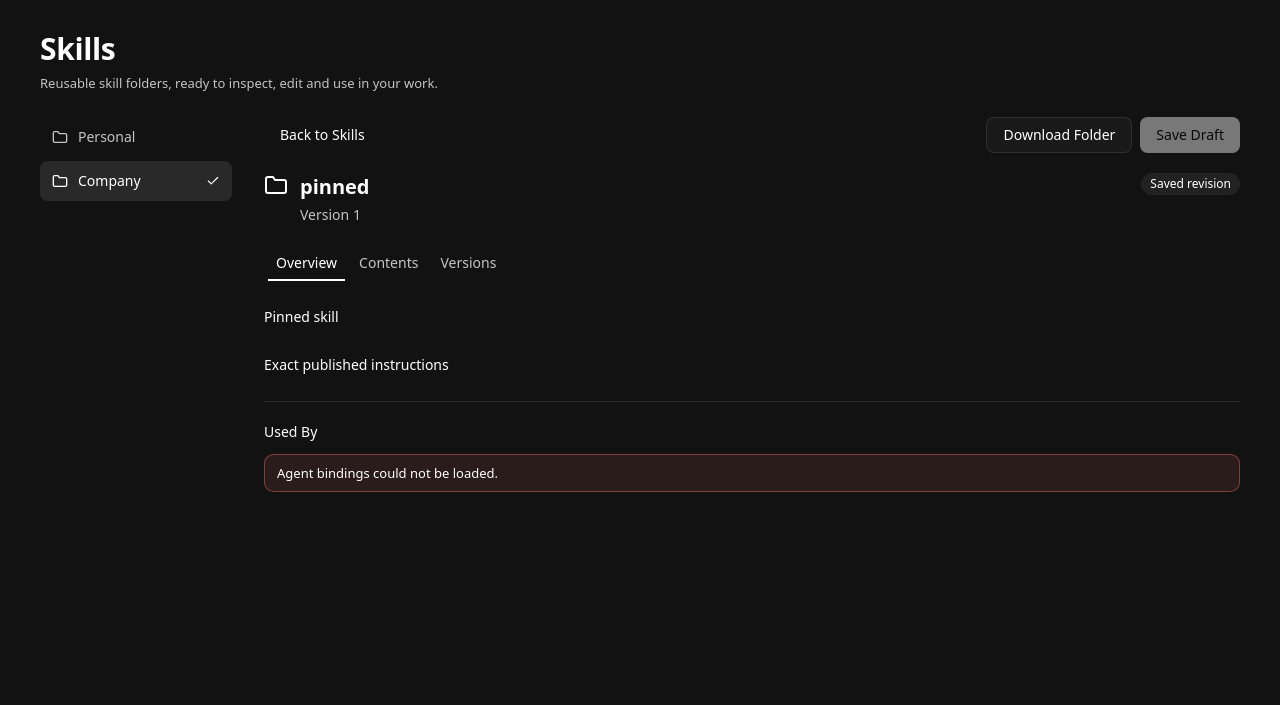
Scenario: skill deep link opens the pinned published version and manual selection keeps its address
expect the text "Exact published instructions" is shown: met, box top-left (264, 354), bottom-right (449, 374)
Press the mouse on the tab "Versions" at (468, 262), box top-left (431, 248), bottom-right (505, 277)
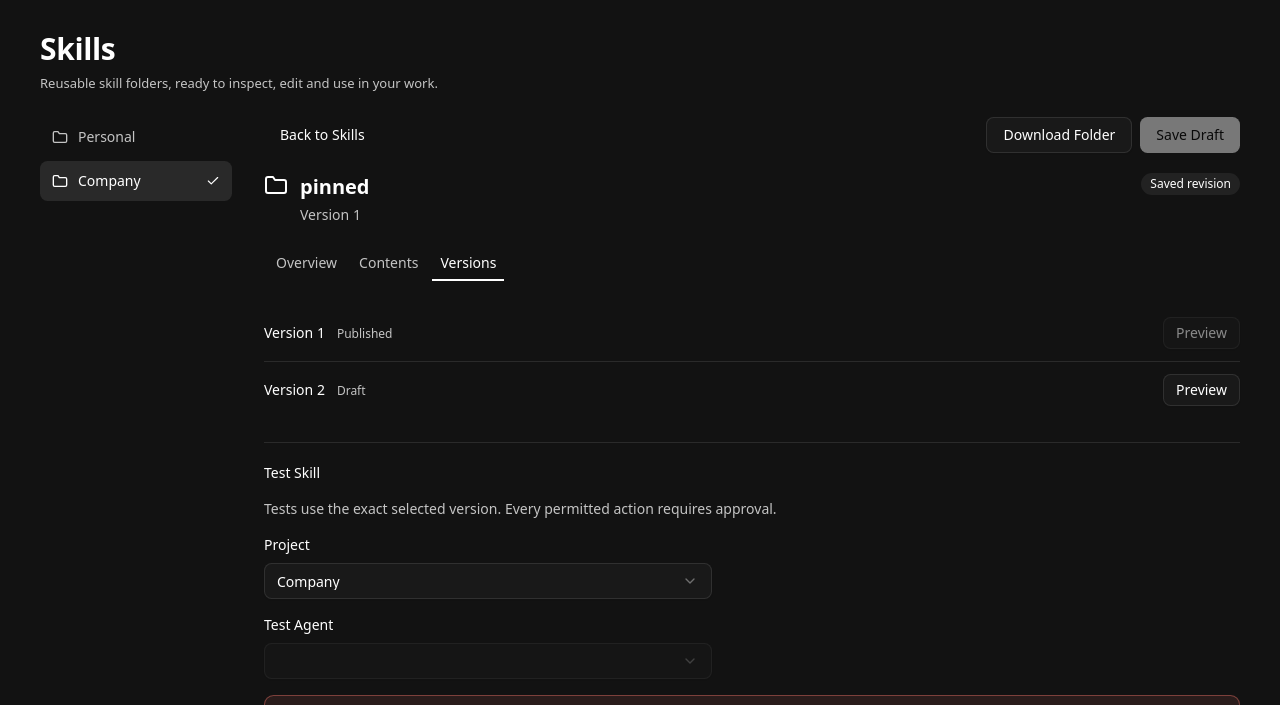
Click the 2nd button "Preview" at (1202, 390), box top-left (1163, 374), bottom-right (1240, 406)
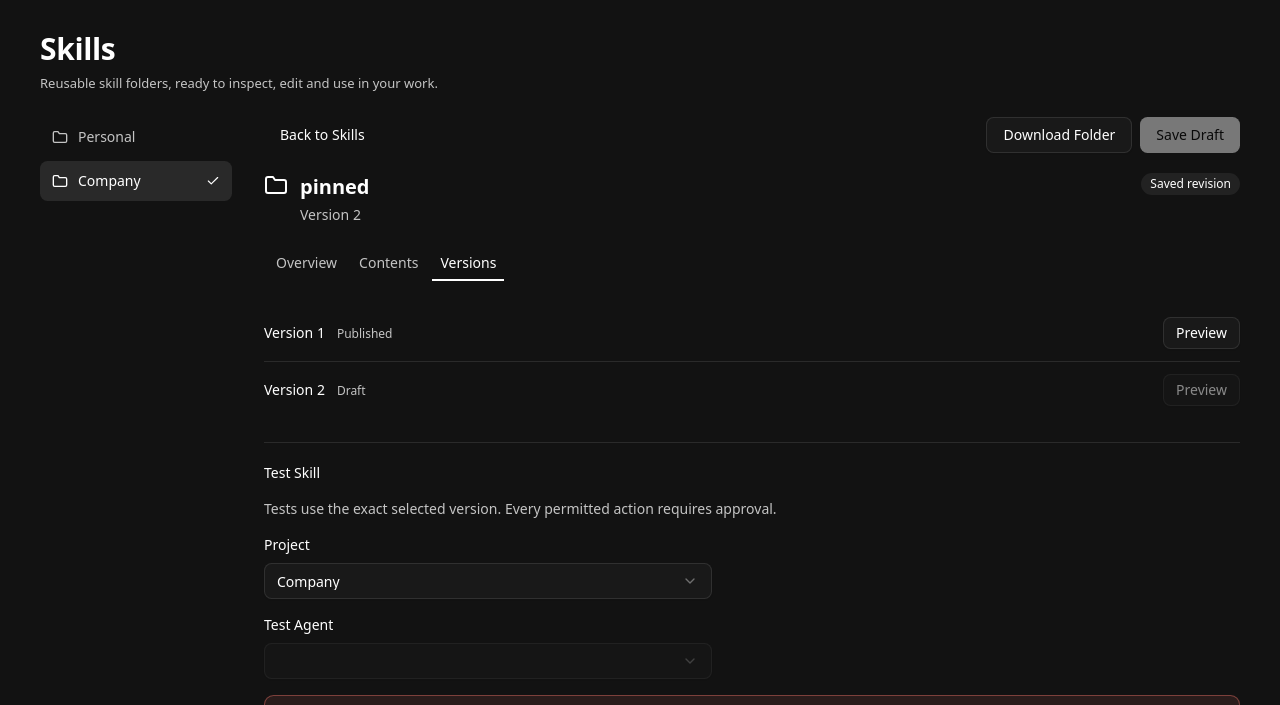
Press the mouse on the tab "Overview" at (307, 262), box top-left (267, 248), bottom-right (346, 277)
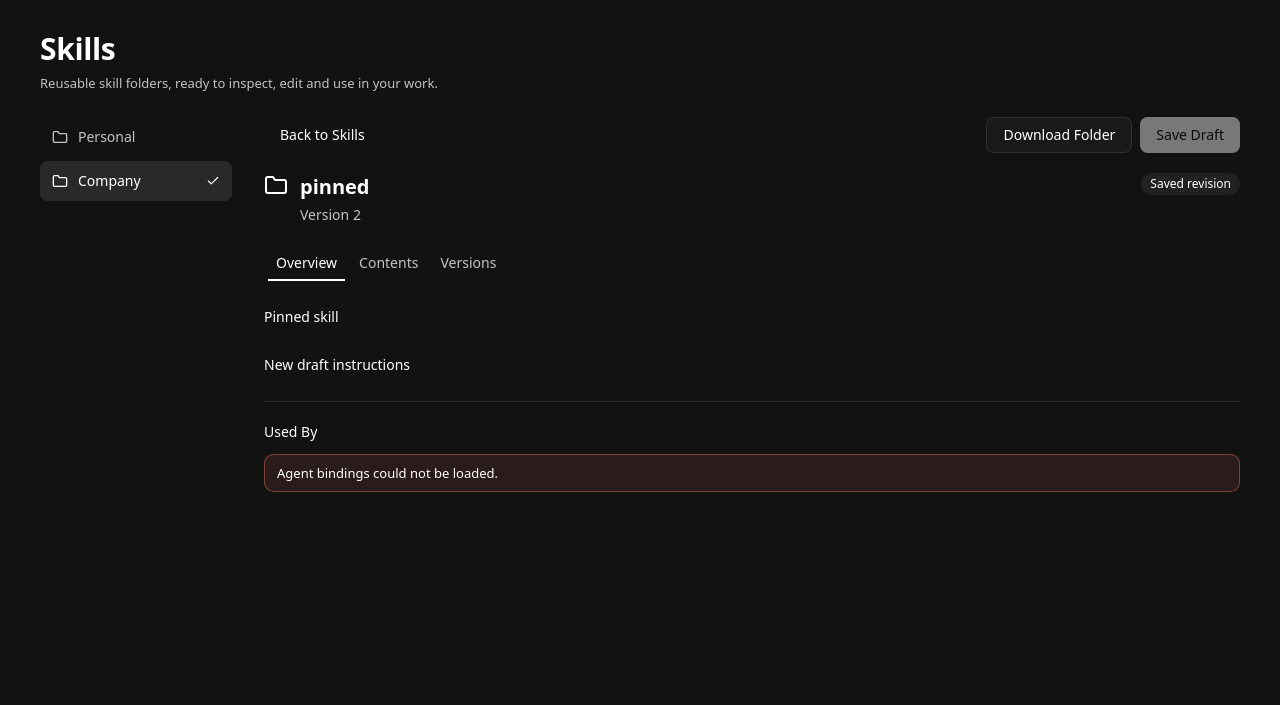
expect the text "New draft instructions" is shown: met, box top-left (264, 354), bottom-right (410, 374)
